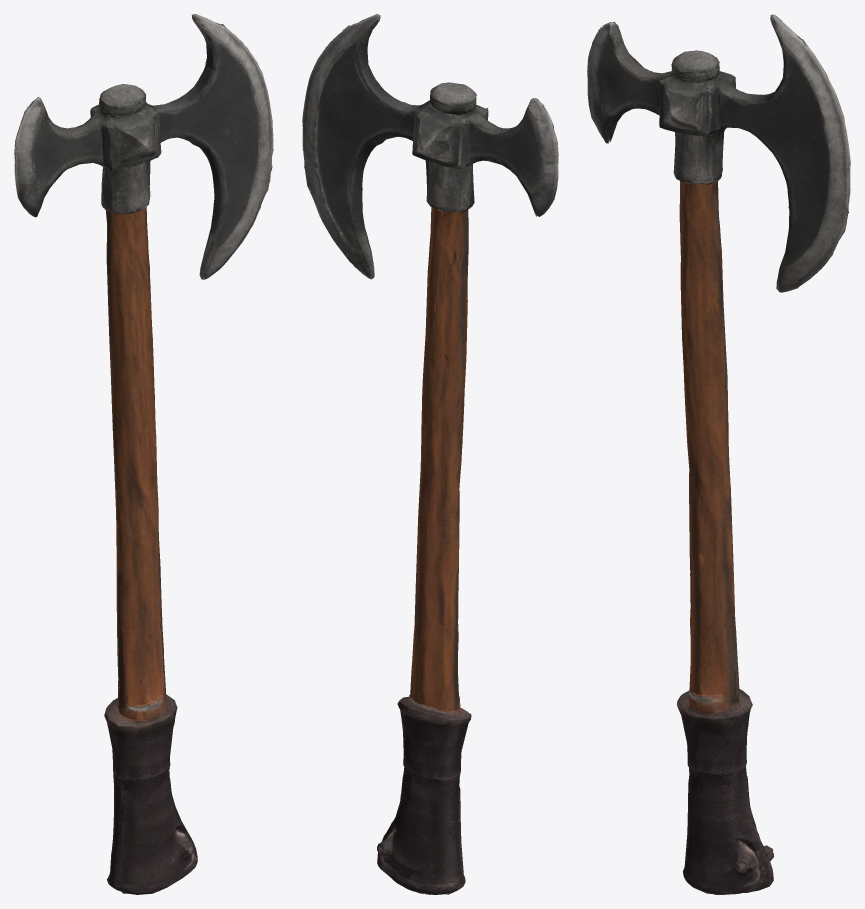
Rendered from тип-сокира.glb.
The picture shows the model from 3 angles, left to right: view 1: azimuth 30°, elevation 25°; view 2: azimuth 150°, elevation 25°; view 3: azimuth 330°, elevation 25°; orthographic projection. The views are drawn at different scales.
Parts seen in each view (by area): view 1: тип-сокира; view 2: тип-сокира; view 3: тип-сокира.
Part boxes in pixels (left/top/right/bottom): тип-сокира: left=14, top=14, right=273, bottom=894; тип-сокира: left=302, top=14, right=558, bottom=894; тип-сокира: left=587, top=14, right=850, bottom=894.
Bounding box in the file's own units: 0.266 × 0.8501 × 0.086.
1 material, 1 textured.
